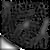node: (22, 20, 31, 30)
